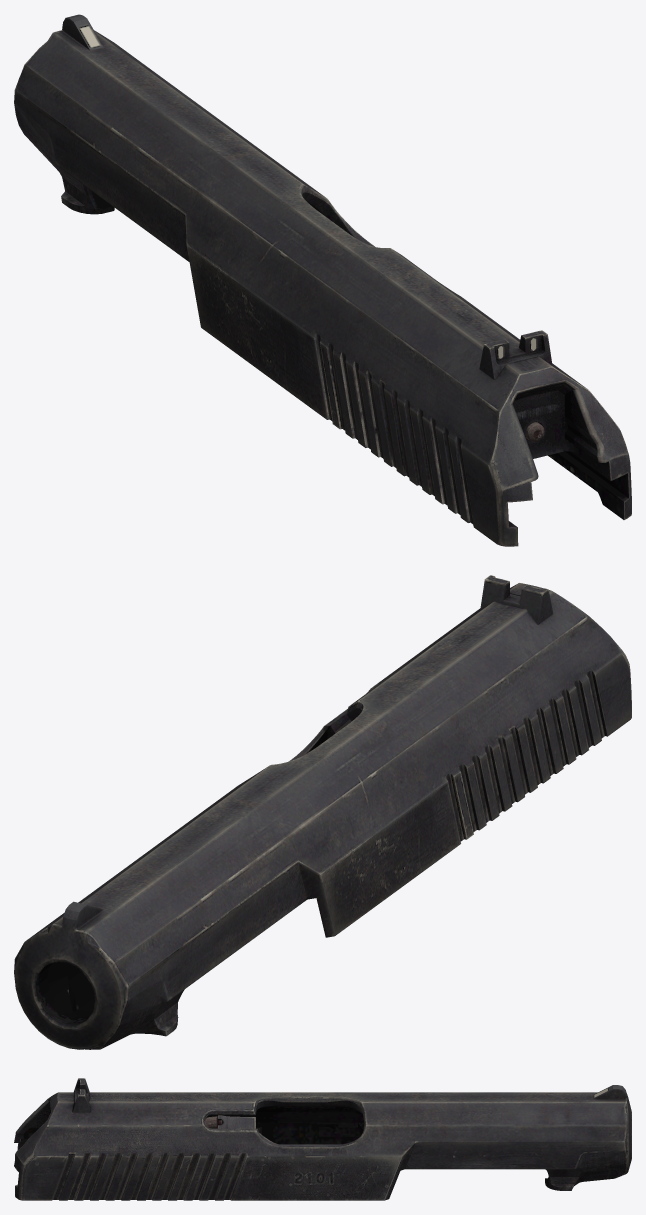
The picture shows the model from 3 angles, top to bottom: view 1: azimuth 30°, elevation 25°; view 2: azimuth 150°, elevation 25°; view 3: azimuth 270°, elevation 25°; orthographic projection. The views are drawn at different scales.
Visible parts, largest first — view 1: TW_59f98b4986f7746f546d2cef_PZ_Import; view 2: TW_59f98b4986f7746f546d2cef_PZ_Import; view 3: TW_59f98b4986f7746f546d2cef_PZ_Import.
Boxes of the visible parts, box(x1,y1,x2,y2) form: TW_59f98b4986f7746f546d2cef_PZ_Import: box(14, 14, 631, 546); TW_59f98b4986f7746f546d2cef_PZ_Import: box(14, 575, 631, 1049); TW_59f98b4986f7746f546d2cef_PZ_Import: box(14, 1078, 631, 1200).
Bounding box in the file's own units: 0.0173 × 0.1137 × 0.019.
Materials: 1 (1 with a texture image).
